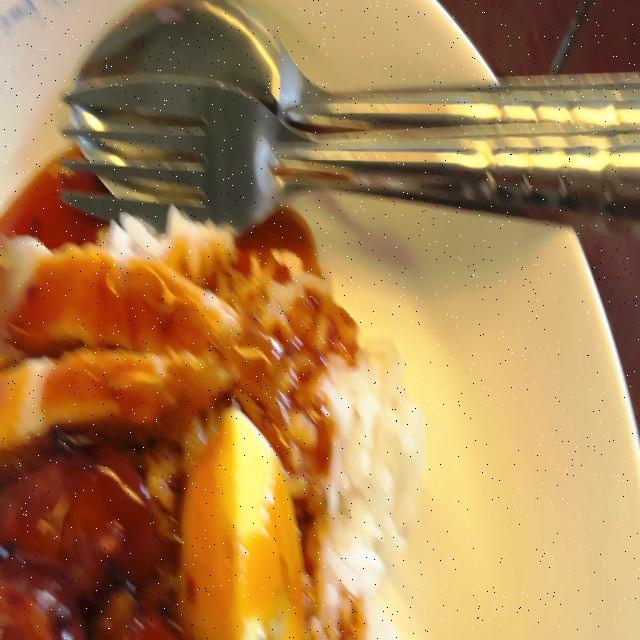boiled_egg: (178, 407, 303, 640)
chainese_sausage: (0, 436, 155, 639)
crispy_pork: (0, 228, 238, 436)
red_pork_and_crispy_pork: (0, 201, 425, 640)
